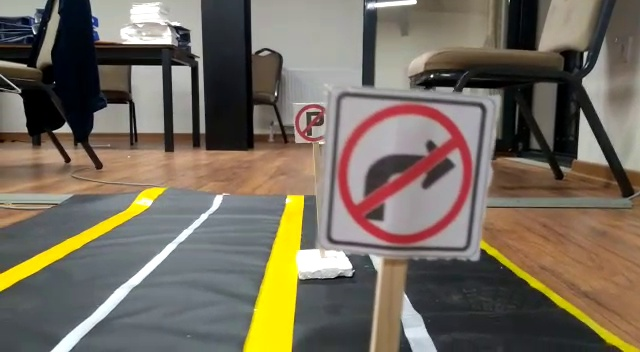park_yapilmaz: (290, 103, 327, 141)
saga_donulmez: (338, 101, 474, 247)
